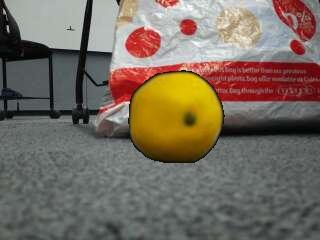lemon: (129, 73, 221, 164)
